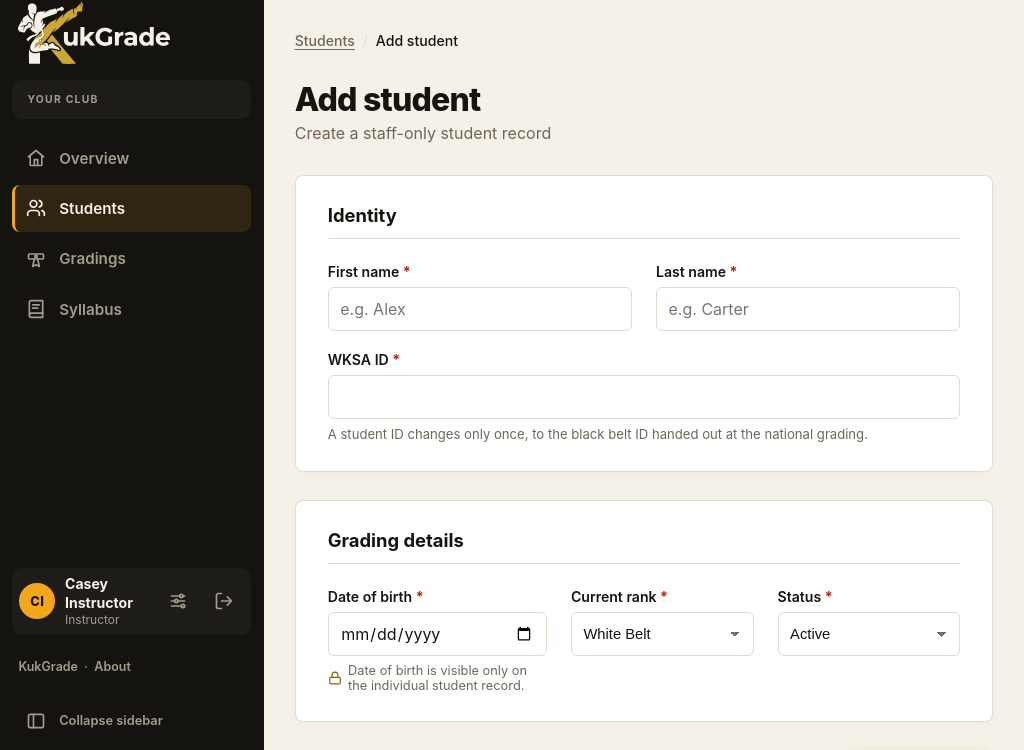
Test: Add student screen (/students/new) › surfaces server validation errors (e.g. duplicate WKSA ID)
This screenshot has width=1024, height=750.
Check: the heading "Add student" is shown, box [295,80,480,119]
Type "Alex" into the field labelled "First name *" at x=480, y=309, box [328,287,632,331]
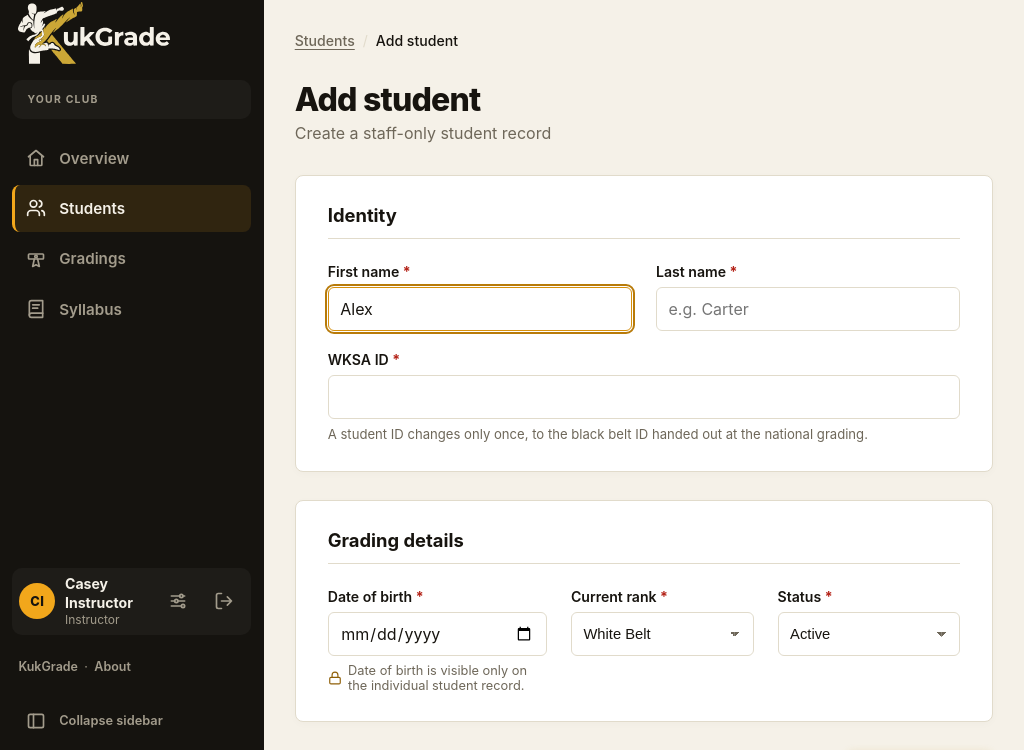
Type "Carter" into the field labelled "Last name *" at x=808, y=309, box [656,287,960,331]
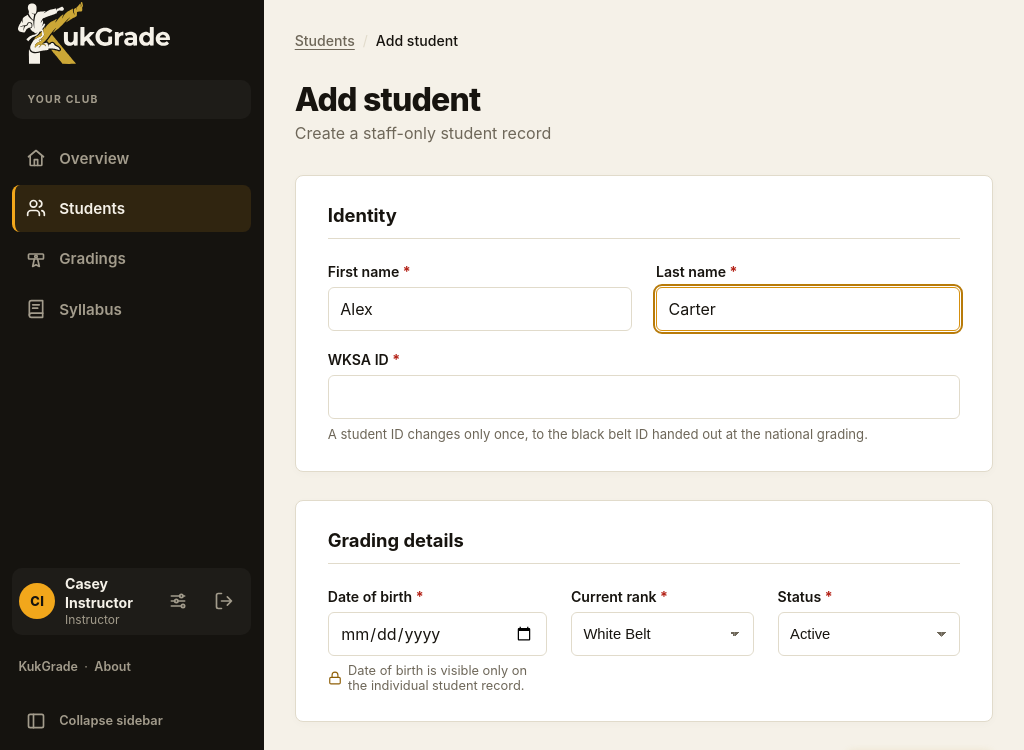
Type "DUPLICATE-ID" into the field labelled "WKSA ID *" at x=644, y=397, box [328,375,960,419]
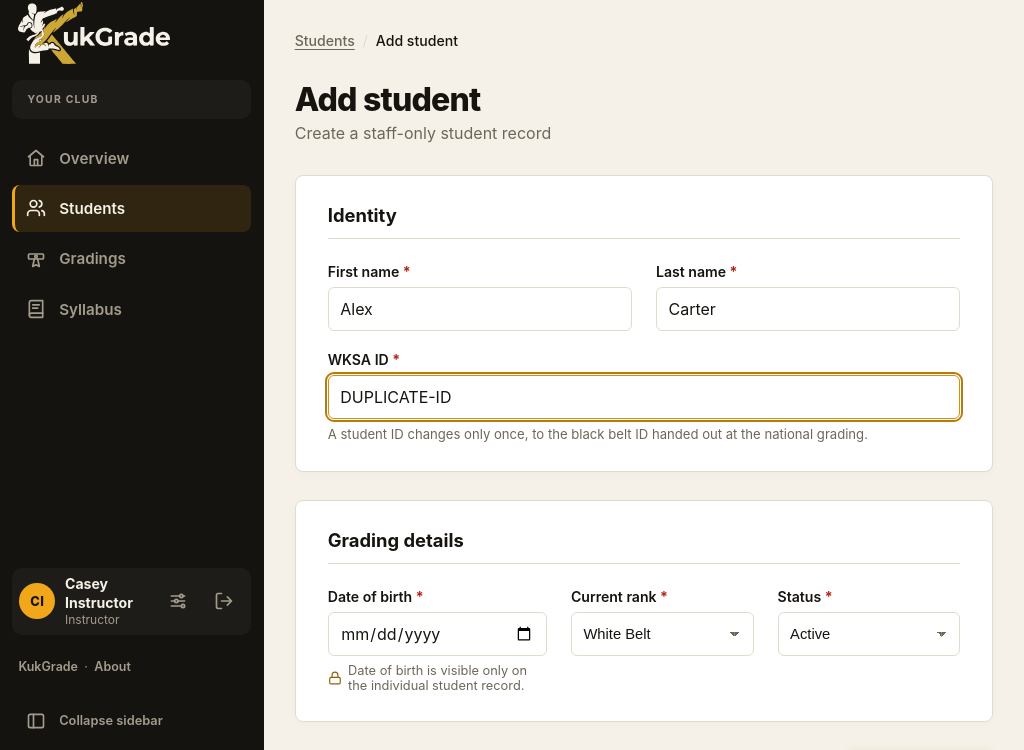
Type "2005-04-12" into the date field labelled "Date of birth *" at x=437, y=634, box [328,612,547,656]
(page scrolled)
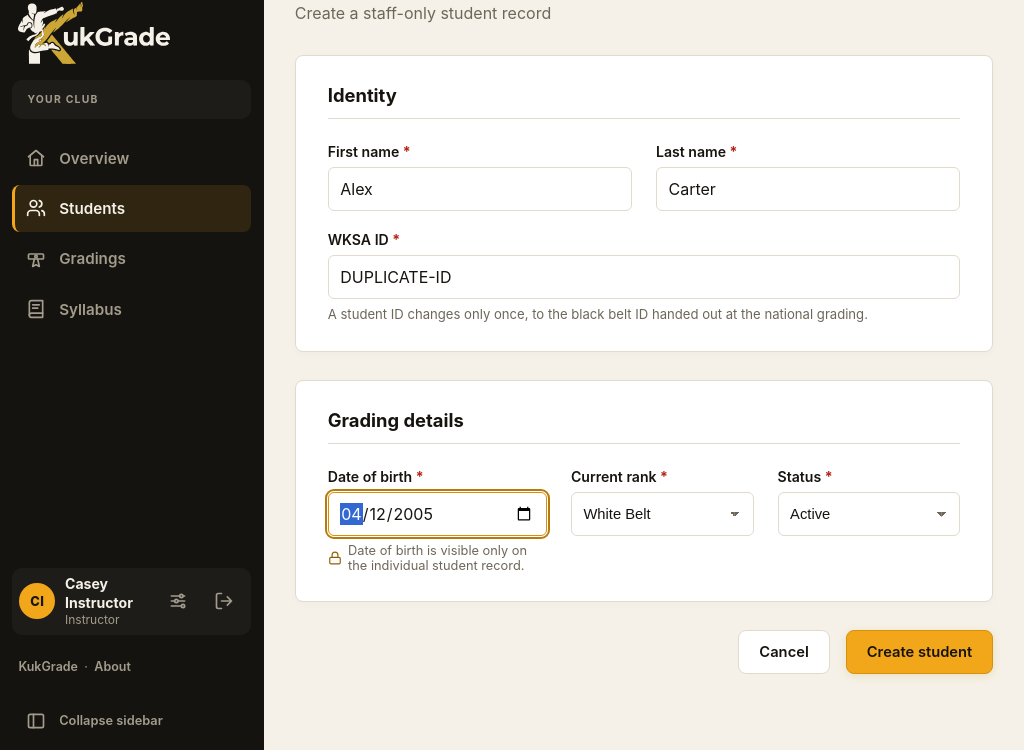
Click the button "Create student" at x=920, y=652, box [846,630,993,674]
(page scrolled)
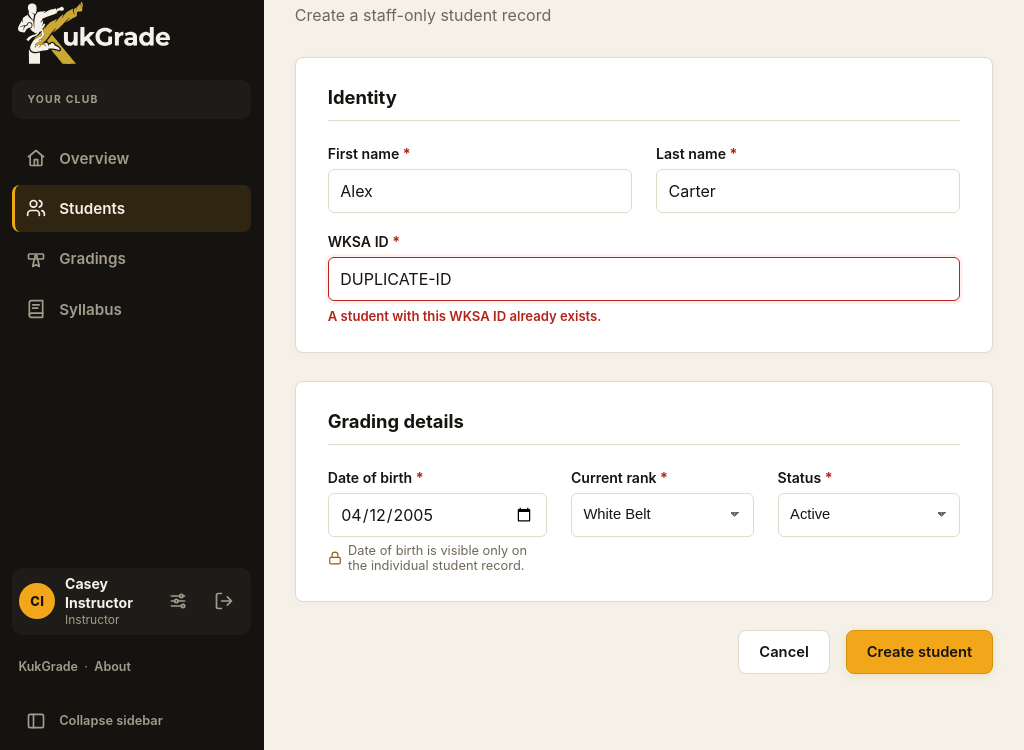
Check: the text "A student with this WKSA ID already exists." is shown, box [328,308,602,324]
